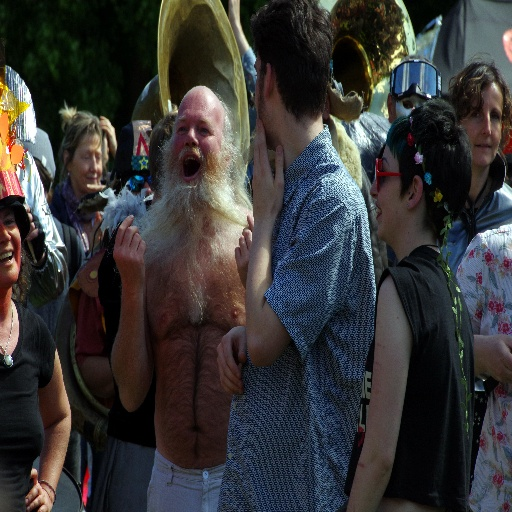hand: (257, 128, 288, 224), (112, 213, 144, 289), (215, 324, 247, 393), (232, 211, 253, 288), (481, 334, 511, 384), (24, 466, 52, 511), (98, 115, 118, 152), (22, 203, 38, 242), (88, 213, 99, 253), (92, 209, 102, 240), (85, 183, 105, 191)
